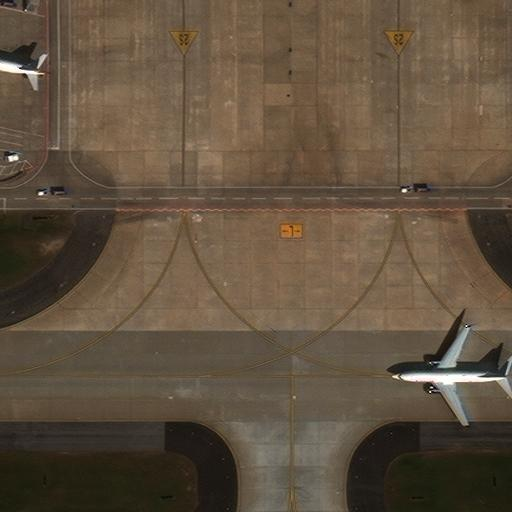Medium Civil Transport: (392, 325, 508, 426), (0, 20, 45, 93)
